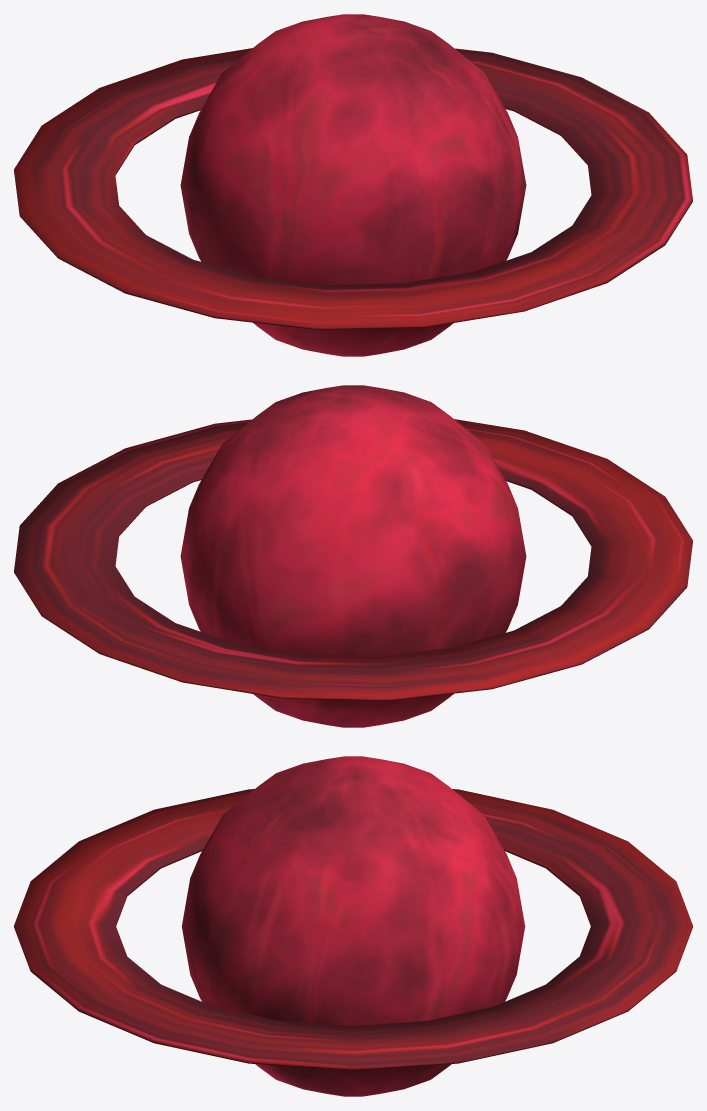
The model's file is Planet_Crimson.fbx.
3 views of the same model, one above another, from view 1: azimuth 30°, elevation 25°; view 2: azimuth 150°, elevation 25°; view 3: azimuth 270°, elevation 25° (orthographic).
Parts seen in each view (by area): view 1: Planet_Crimson, Planet_Crimson_Ring; view 2: Planet_Crimson, Planet_Crimson_Ring; view 3: Planet_Crimson, Planet_Crimson_Ring.
Boxes of the visible parts, <box> form: Planet_Crimson: <box>180,14,526,356</box>; Planet_Crimson_Ring: <box>14,48,692,329</box>; Planet_Crimson: <box>180,385,526,727</box>; Planet_Crimson_Ring: <box>14,419,692,700</box>; Planet_Crimson: <box>181,756,525,1096</box>; Planet_Crimson_Ring: <box>14,789,692,1070</box>.
Bounding box in the file's own units: 405 × 205 × 406.
